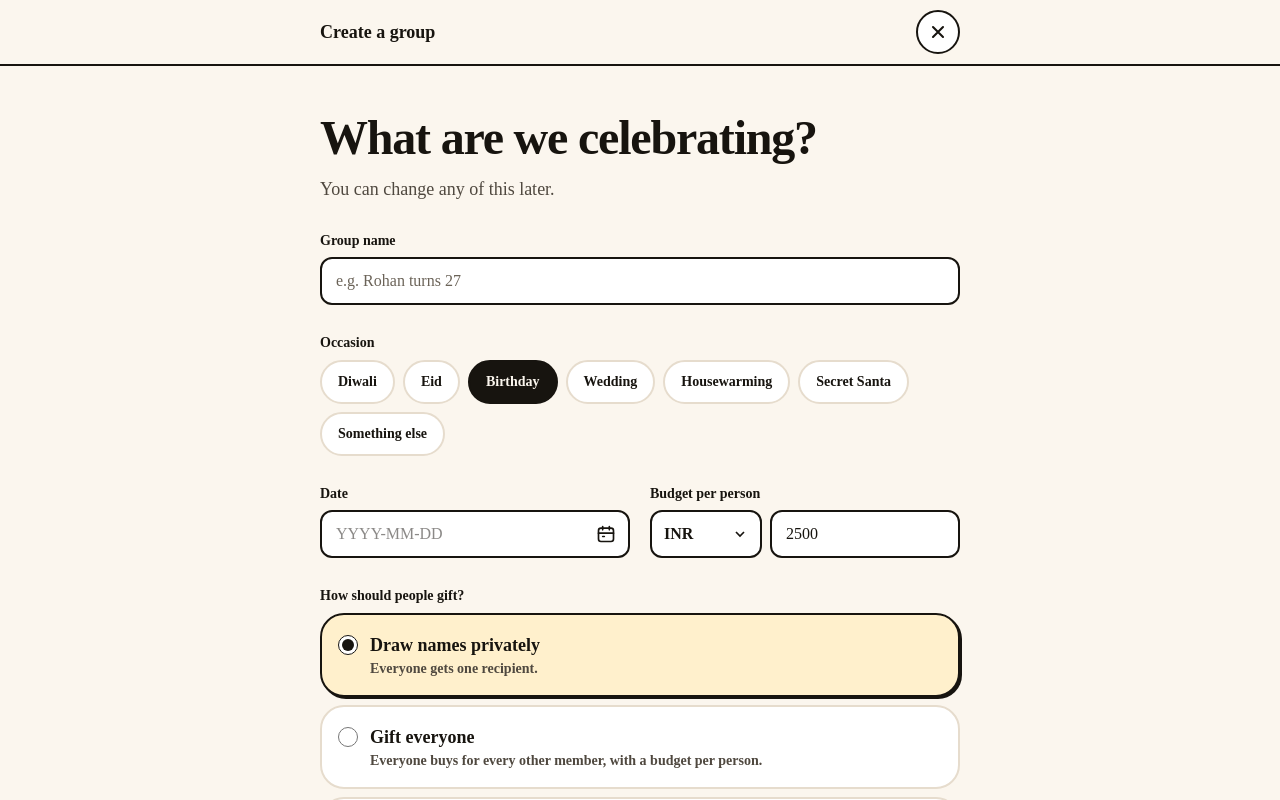
CreateGroupScreen › surfaces the changed-payload conflict before sending the payload
In the field labelled "Group name": (640, 280) 320,256 -> 960,304, type "Rohan turns 27"
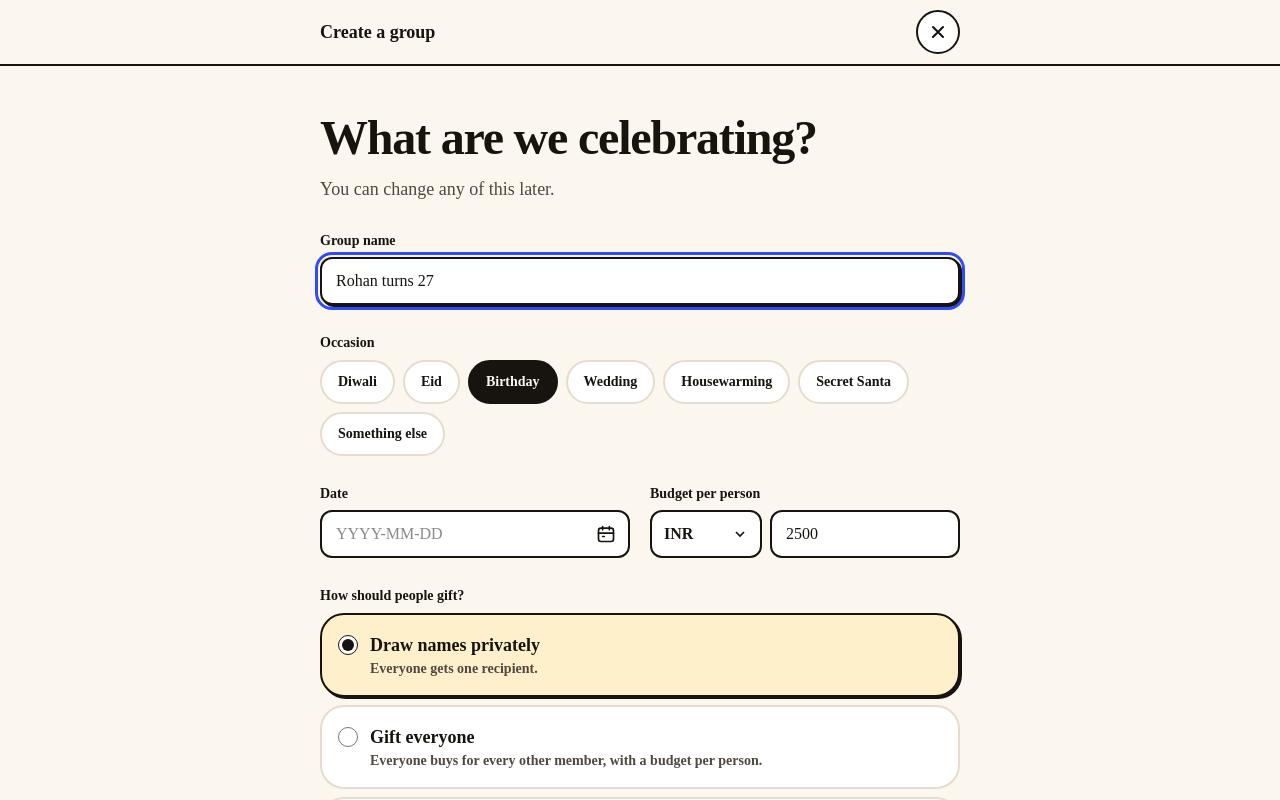
In the field labelled "Date": (475, 534) 320,510 -> 630,558, type "2026-12-18"
(page scrolled)
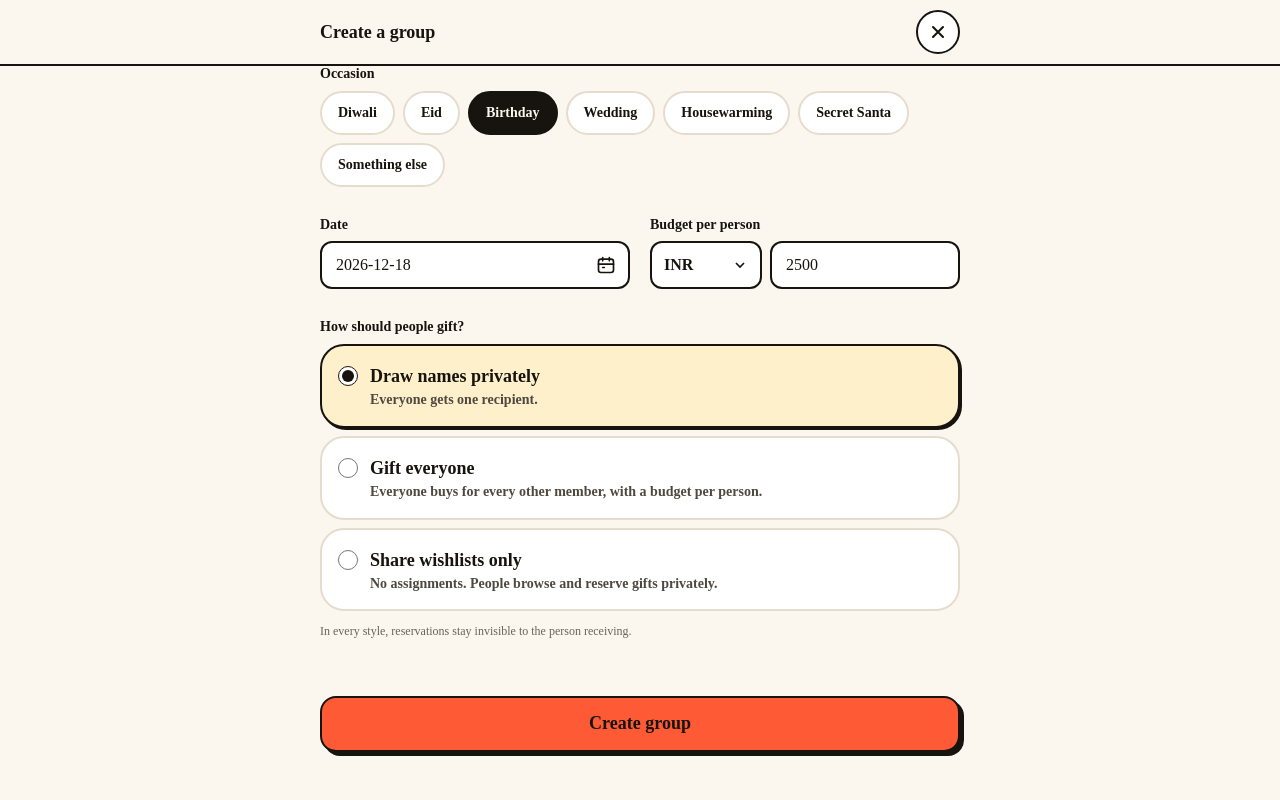
Click the button "Create group": (640, 724) 320,696 -> 960,752
(page scrolled)
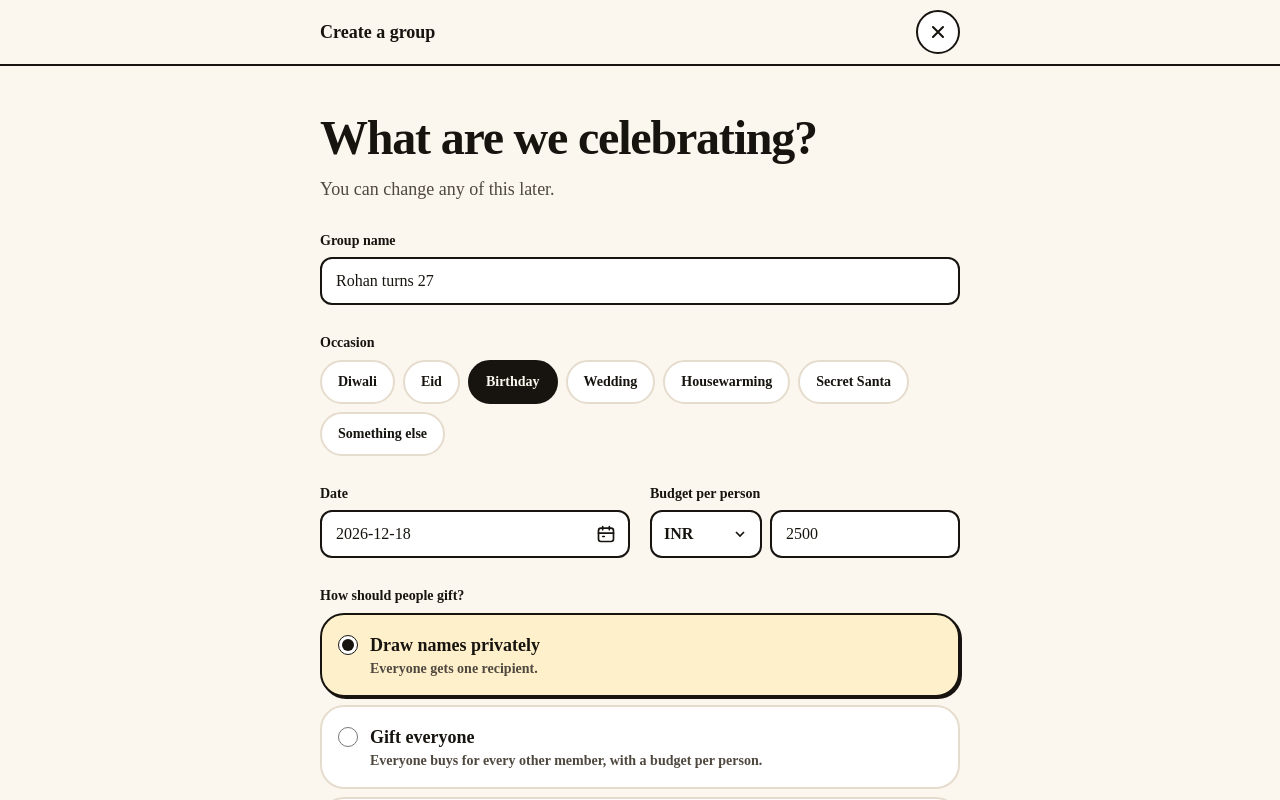
In the field labelled "Group name": (640, 280) 320,256 -> 960,304, type "!"
(page scrolled)
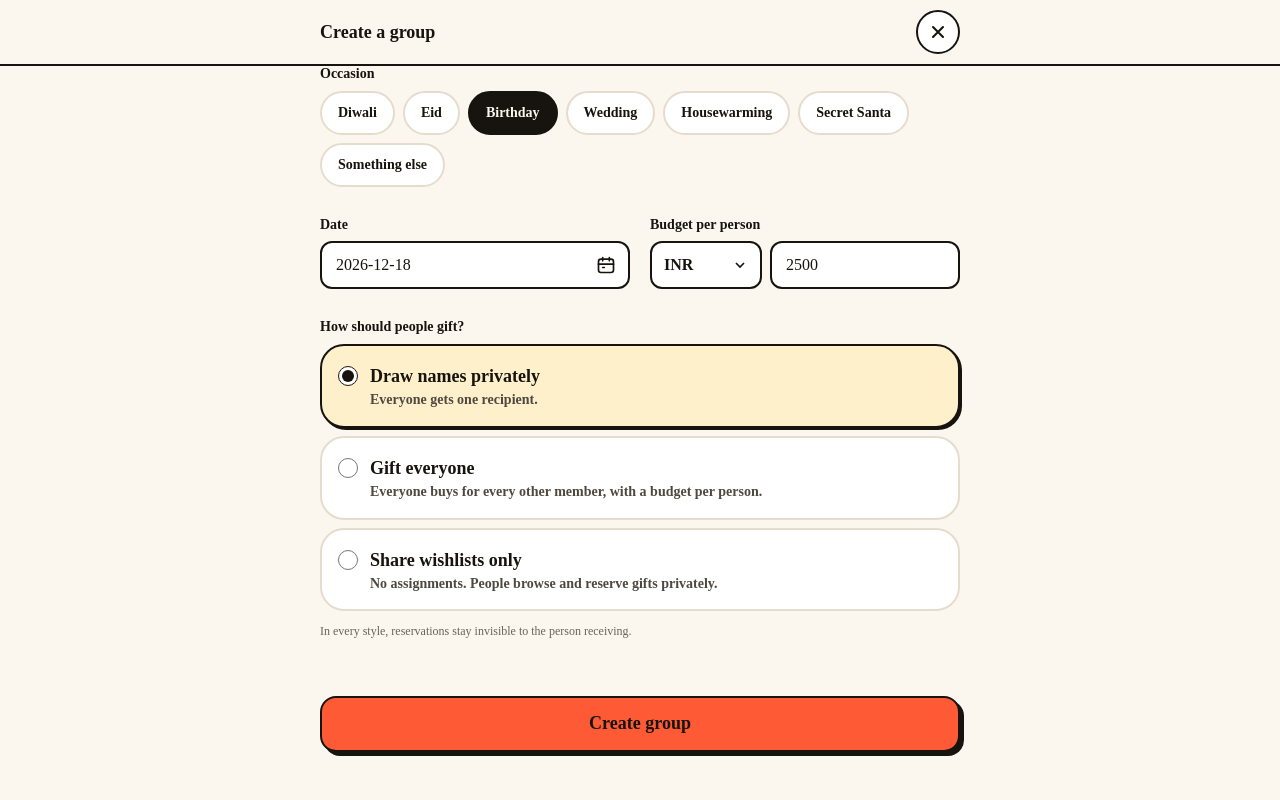
Click the button "Create group": (640, 724) 320,696 -> 960,752
(page scrolled)
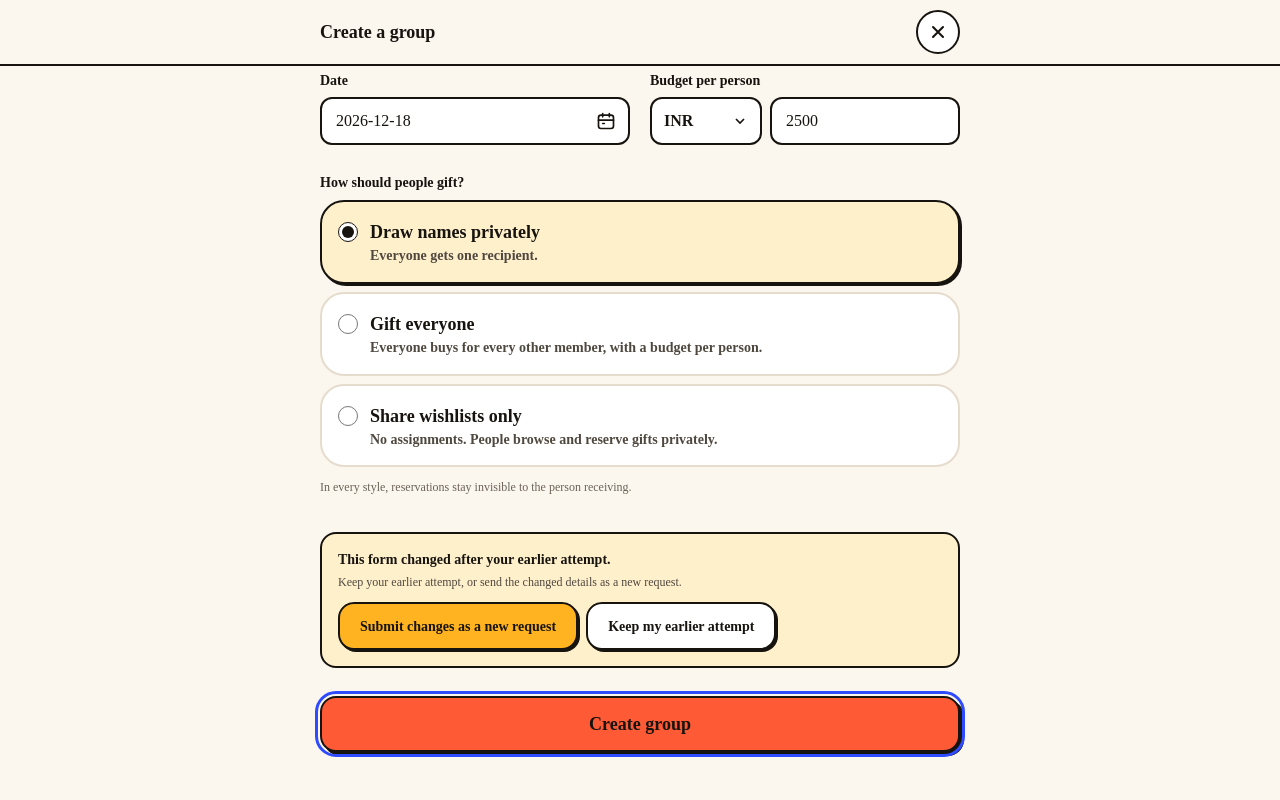
Expected: the element with test id "idempotency-conflict" is shown, 320,532 -> 960,668
